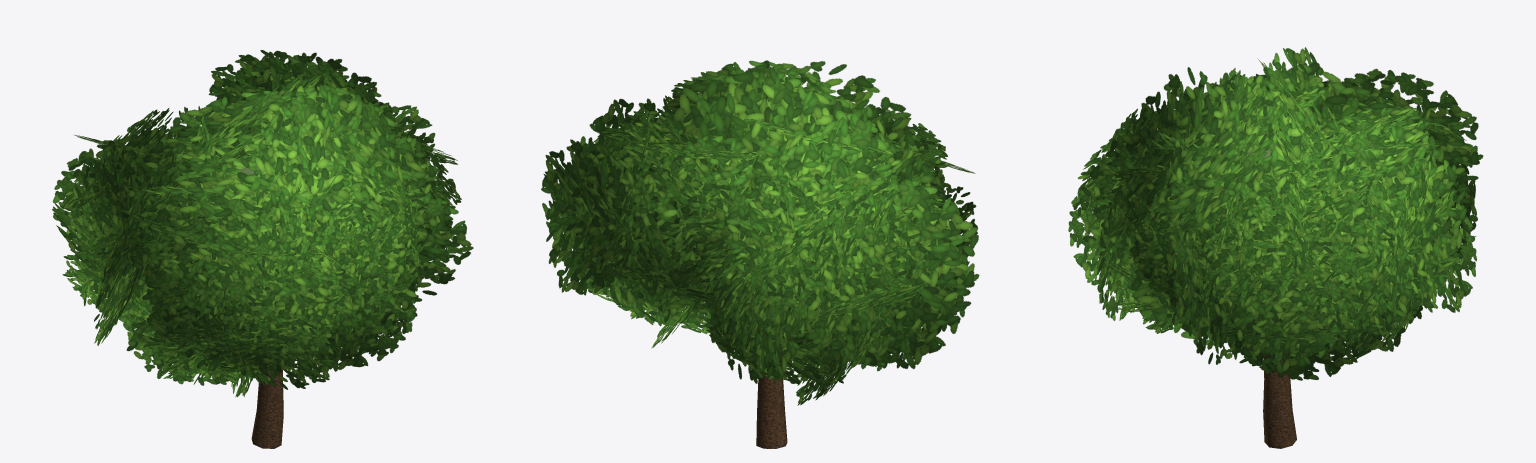
File: arvore_2.glb
The picture shows the model from 3 angles, left to right: view 1: azimuth 30°, elevation 25°; view 2: azimuth 150°, elevation 25°; view 3: azimuth 270°, elevation 25°; orthographic projection. The views are drawn at different scales.
Parts seen in each view (by area): view 1: folhas, casca; view 2: folhas, casca; view 3: folhas, casca.
Part boxes in pixels (left/top/right/bottom): folhas: left=52, top=50, right=473, bottom=397; casca: left=251, top=358, right=283, bottom=448; folhas: left=541, top=60, right=979, bottom=405; casca: left=756, top=334, right=787, bottom=448; folhas: left=1068, top=47, right=1483, bottom=380; casca: left=1263, top=356, right=1296, bottom=448.
Size of the model in its own units: 17.28 by 15.6 by 16.08.
Materials: 3 (2 with a texture image).
